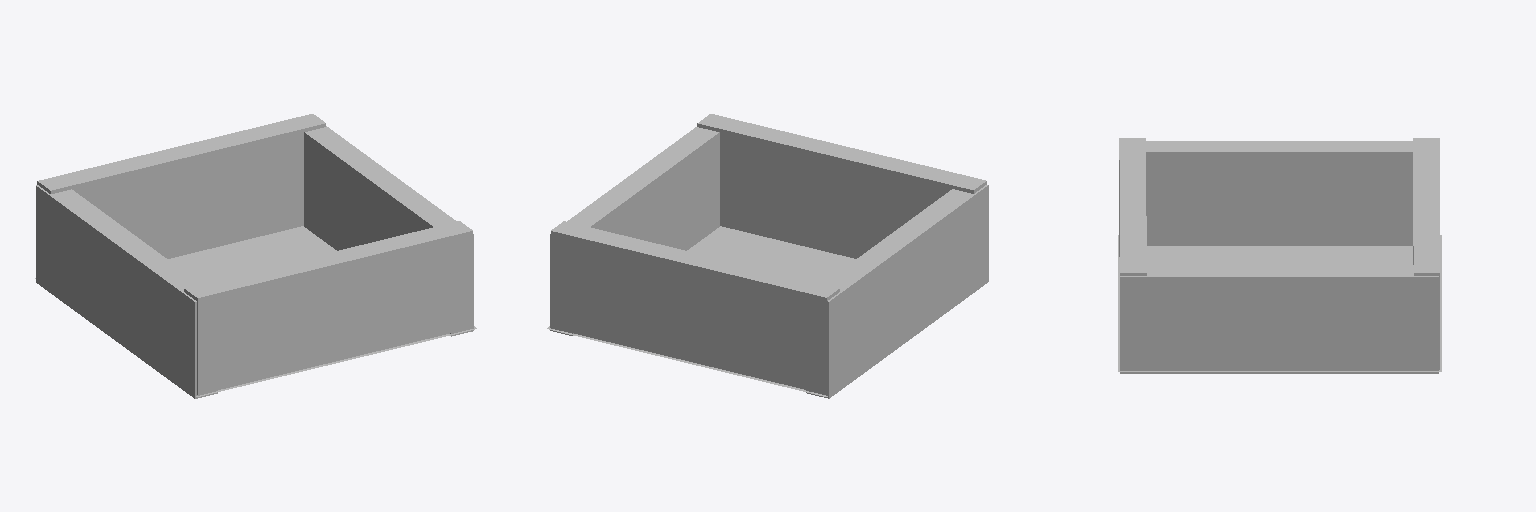
File: ringue.obj
3 views of the same model, side by side, from view 1: azimuth 30°, elevation 25°; view 2: azimuth 150°, elevation 25°; view 3: azimuth 270°, elevation 25° (orthographic).
Visible parts, largest first — view 1: Cube.002_Cube.003, Cube.003_Cube.004, Cube_Cube.001, Cube.001_Cube.002, Plane; view 2: Cube.003_Cube.004, Cube.002_Cube.003, Cube_Cube.001, Cube.001_Cube.002, Plane; view 3: Cube.001_Cube.002, Cube_Cube.001, Plane, Cube.003_Cube.004, Cube.002_Cube.003.
Boxes of the visible parts, box(x1,y1,x2,y2) form: Cube.002_Cube.003: box(184, 221, 472, 394); Cube.003_Cube.004: box(37, 114, 325, 258); Cube_Cube.001: box(36, 185, 217, 398); Cube.001_Cube.002: box(304, 126, 473, 336); Plane: box(35, 226, 476, 396); Cube.003_Cube.004: box(551, 221, 839, 394); Cube.002_Cube.003: box(697, 114, 986, 258); Cube_Cube.001: box(806, 185, 988, 398); Cube.001_Cube.002: box(550, 127, 719, 335); Plane: box(547, 226, 855, 396); Cube.001_Cube.002: box(1120, 265, 1438, 373); Cube_Cube.001: box(1146, 141, 1412, 245); Plane: box(1118, 235, 1441, 371); Cube.003_Cube.004: box(1413, 138, 1439, 369); Cube.002_Cube.003: box(1119, 138, 1146, 275).
Bounding box in the file's own units: 6.06 × 2.08 × 6.05.